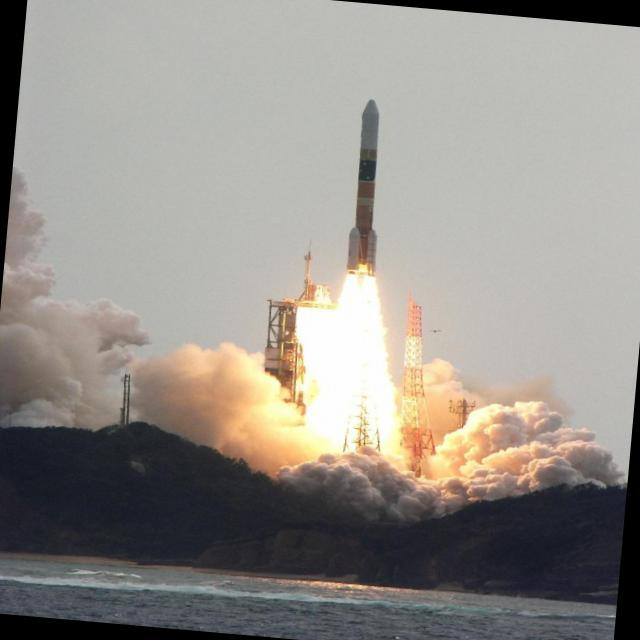rocket: (319, 97, 415, 403)
